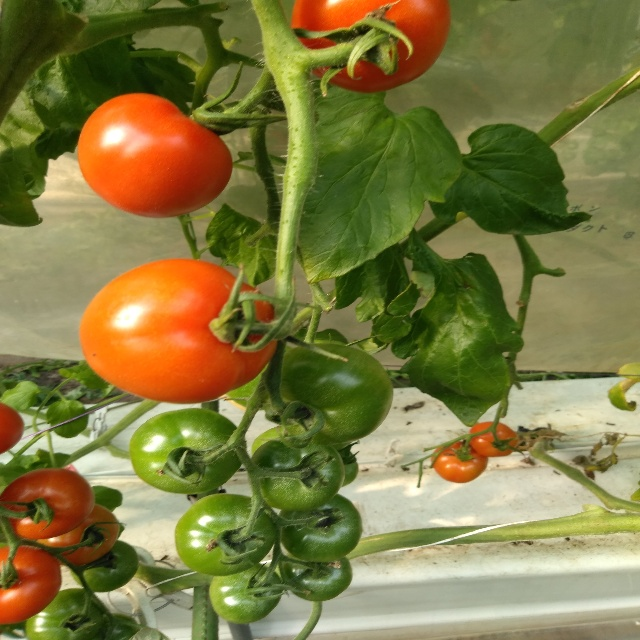l_fully_ripened: (78, 259, 277, 404), (76, 93, 233, 218), (291, 0, 452, 93), (0, 468, 96, 540), (1, 545, 62, 625), (0, 402, 25, 455)
l_green: (271, 342, 395, 444), (129, 408, 247, 494), (174, 493, 278, 576), (247, 436, 346, 512), (277, 493, 363, 562), (209, 563, 284, 625), (26, 588, 103, 640), (70, 540, 139, 593), (282, 551, 353, 601)
l_half_ripened: (35, 503, 120, 566), (430, 441, 488, 483), (468, 421, 518, 457)
